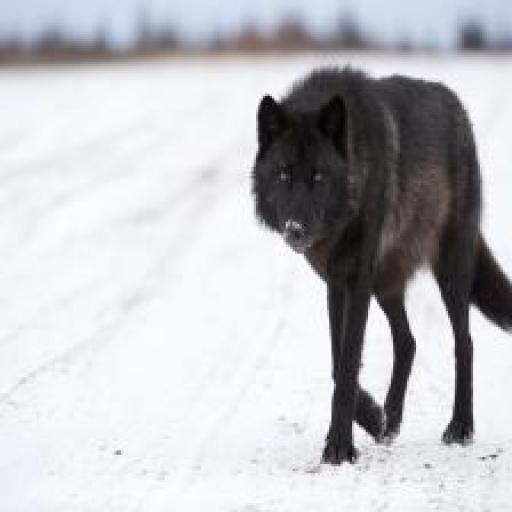wolf: (233, 52, 511, 511)
